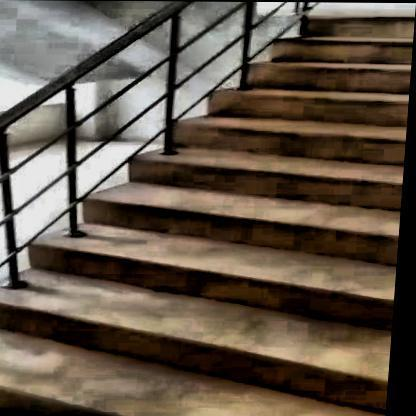stair: (12, 6, 411, 406)
